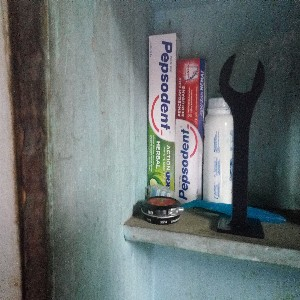spanner: (213, 54, 267, 240)
